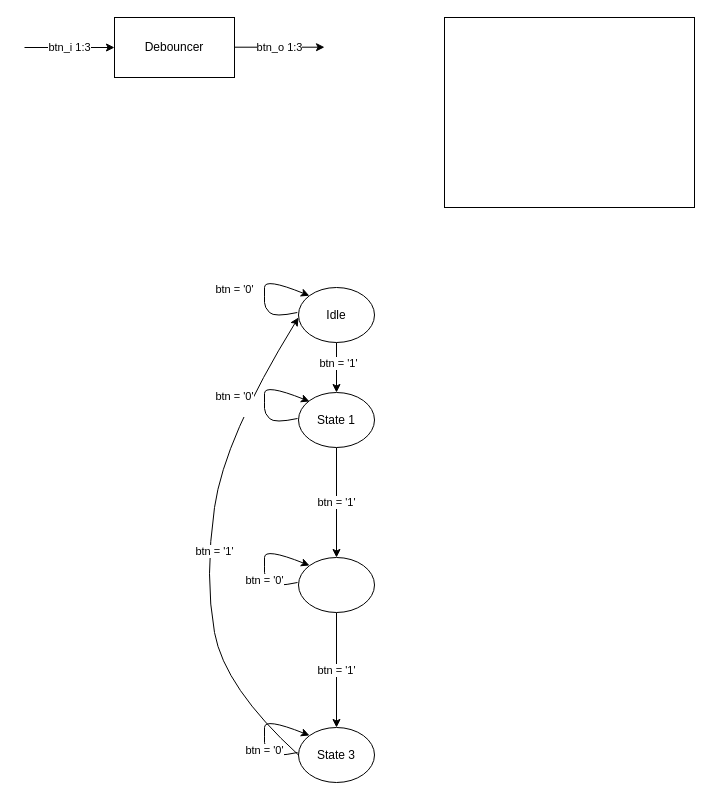
This 712x800 diagram has some shape labels left out. Here are the shapes that lost their labels. From the top down, the centre of each, then its label:
At [569,112]: "FSM:".
At [336,584]: "State 2".
